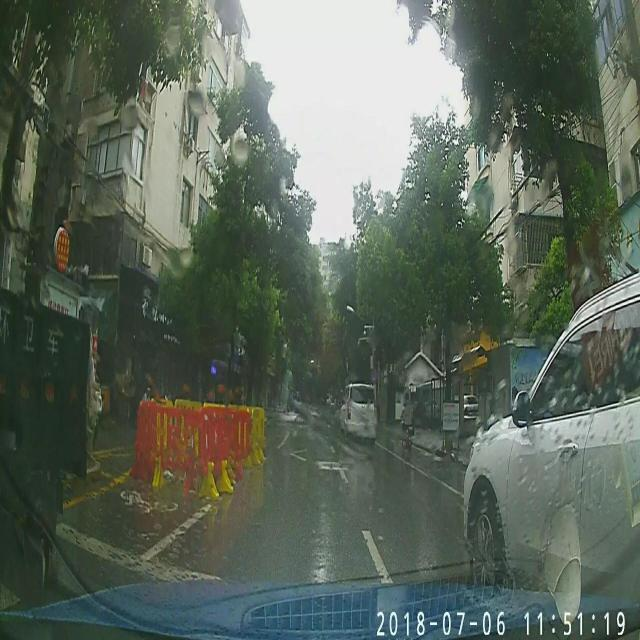car: (463, 274, 640, 600), (341, 382, 377, 436)
